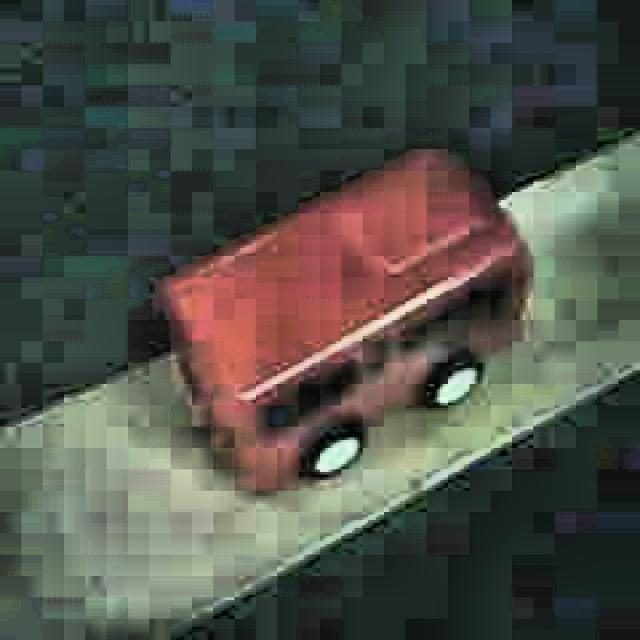bus: (167, 144, 533, 491)
